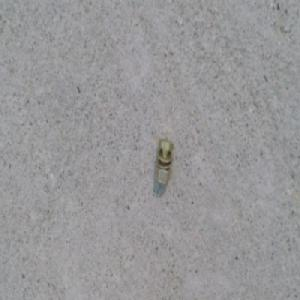BoltNutSet: (154, 138, 173, 185)
